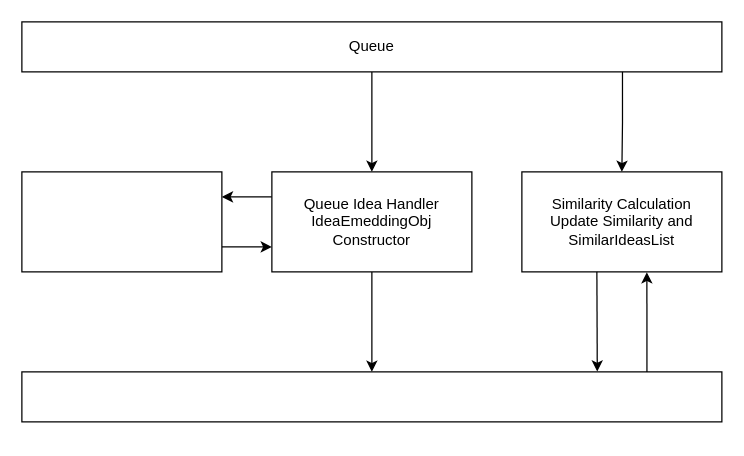
This 744x456 diagram has some shape labels left out. Here are the shapes that lost their labels. From the top down, the box of each, then its label:
(21, 171, 222, 272): LLM Text2Embedding
(21, 371, 722, 422): Optiflow
